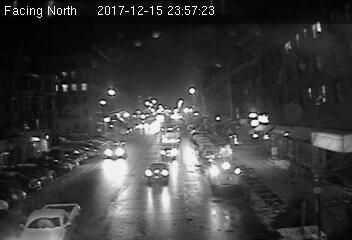car: (17, 203, 81, 240), (209, 159, 242, 191), (145, 162, 171, 184), (104, 142, 126, 160), (160, 144, 177, 161)
